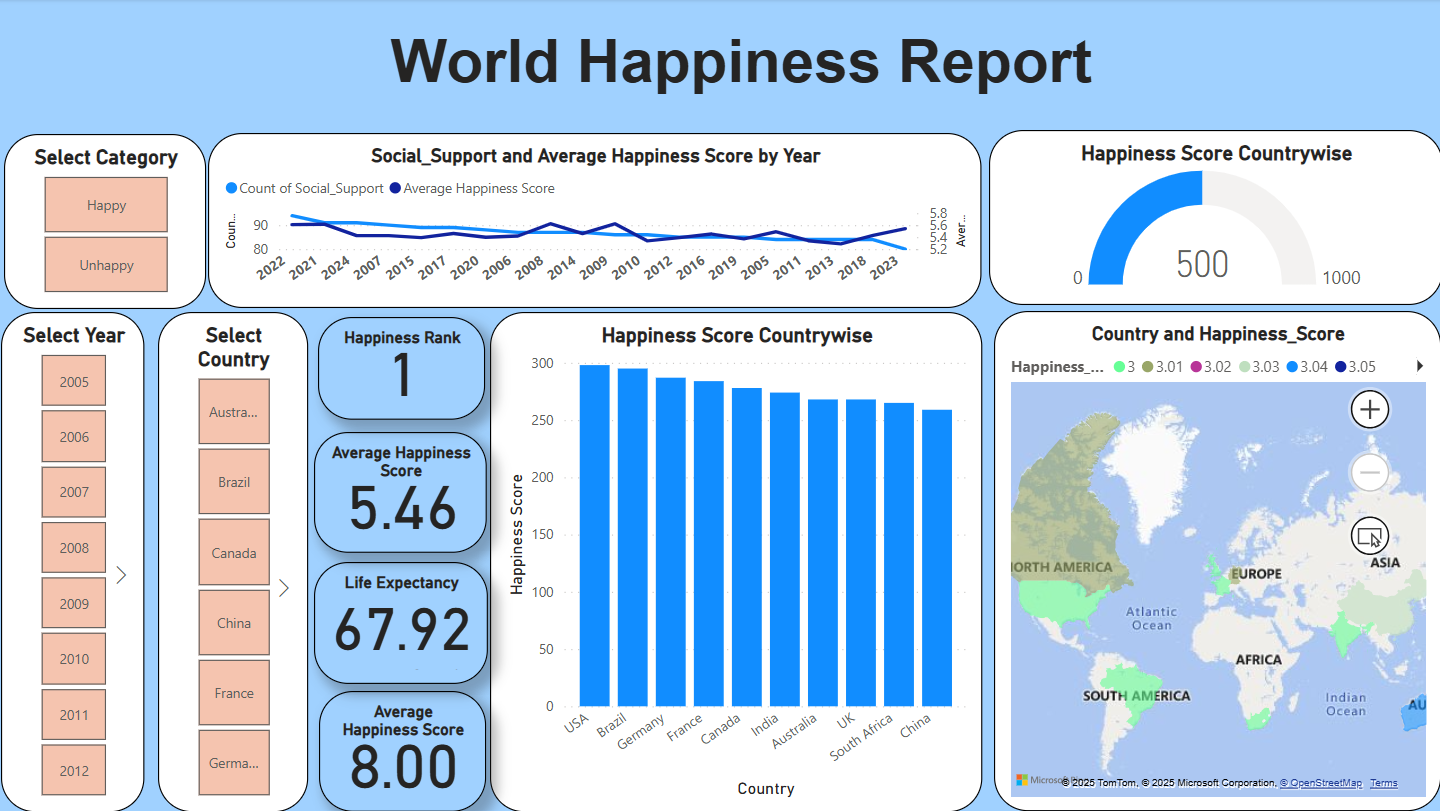

Layout of this report page (visuals, bound fields, positions):
{"tool":"powerbi","page":{"name":"Page 1","canvas":[1280,720],"ordinal":0},"visuals":[{"type":"textbox","box":[342.1,19.7,647.6,80.4],"z":0},{"type":"slicer","title":"Select  Year","fields":{"Values":["world_happiness_report.Year Hierarchy.Year"]},"box":[3,276.8,127.5,443.2],"z":4000},{"type":"columnChart","title":"Happiness Score Countrywise","fields":{"Category":["world_happiness_report.Country"],"Y":["Count(world_happiness_report.Happiness_Score)"]},"box":[436.1,277.2,436.1,443.2],"z":5000},{"type":"gauge","title":"Happiness Score Countrywise","fields":{"Y":["Count(world_happiness_report.Happiness_Score)"]},"box":[877.3,116.4,401.7,154.8],"z":6000},{"type":"slicer","title":"Select  Country","fields":{"Values":["world_happiness_report.Country"]},"box":[141.7,277.2,132.6,443.2],"z":7000},{"type":"filledMap","fields":{"Category":["world_happiness_report.Country"],"Series":["world_happiness_report.Happiness_Score"]},"box":[882.3,276.2,395.6,443.2],"z":8000},{"type":"card","title":"Average Happiness Score","fields":{"Values":["world_happiness_report.Average Happiness Score"]},"box":[280.3,383.5,152.8,107.3],"z":8001},{"type":"lineChart","title":"Social_Support and Average Happiness Score by Year","fields":{"Y":["Count(world_happiness_report.Social_Support)"],"Category":["world_happiness_report.Year Hierarchy.Year"],"Y2":["world_happiness_report.Average Happiness Score"]},"box":[186.2,118.4,685,154.8],"z":8003},{"type":"slicer","title":"Select  Category","fields":{"Values":["world_happiness_report.Happiness Category Column"]},"box":[5.1,119.4,179.1,154.8],"z":8004},{"type":"card","title":"Happiness Rank","fields":{"Values":["world_happiness_report.Happiness Rank"]},"box":[283.3,281.3,147.7,91.1],"z":8006},{"type":"card","title":"Life Expectancy","fields":{"Values":["Avg(world_happiness_report.Healthy_Life_Expectancy)"]},"box":[279.6,498.4,153.6,108.1],"z":8007},{"type":"card","title":"Average Happiness Score","fields":{"Values":["world_happiness_report.Max Happiness Score"]},"box":[284.3,612.7,147.7,107.3],"z":8008}]}

Visuals, with their boxes in screenshot pixels (x1, y1, x2, y2), scaled from the page's 1280x720 canvas onto the 1440x811 screenshot:
textbox: x1=385, y1=22, x2=1113, y2=113
"Select  Year" slicer: x1=3, y1=312, x2=147, y2=810
"Happiness Score Countrywise" columnChart: x1=491, y1=312, x2=981, y2=810
"Happiness Score Countrywise" gauge: x1=987, y1=131, x2=1439, y2=305
"Select  Country" slicer: x1=159, y1=312, x2=309, y2=810
filledMap - world_happiness_report.Country x world_happiness_report.Happiness_Score: x1=993, y1=311, x2=1438, y2=810
"Average Happiness Score" card: x1=315, y1=432, x2=487, y2=553
"Social_Support and Average Happiness Score by Year" lineChart: x1=209, y1=133, x2=980, y2=308
"Select  Category" slicer: x1=6, y1=134, x2=207, y2=309
"Happiness Rank" card: x1=319, y1=317, x2=485, y2=419
"Life Expectancy" card: x1=315, y1=561, x2=487, y2=683
"Average Happiness Score" card: x1=320, y1=690, x2=486, y2=810
